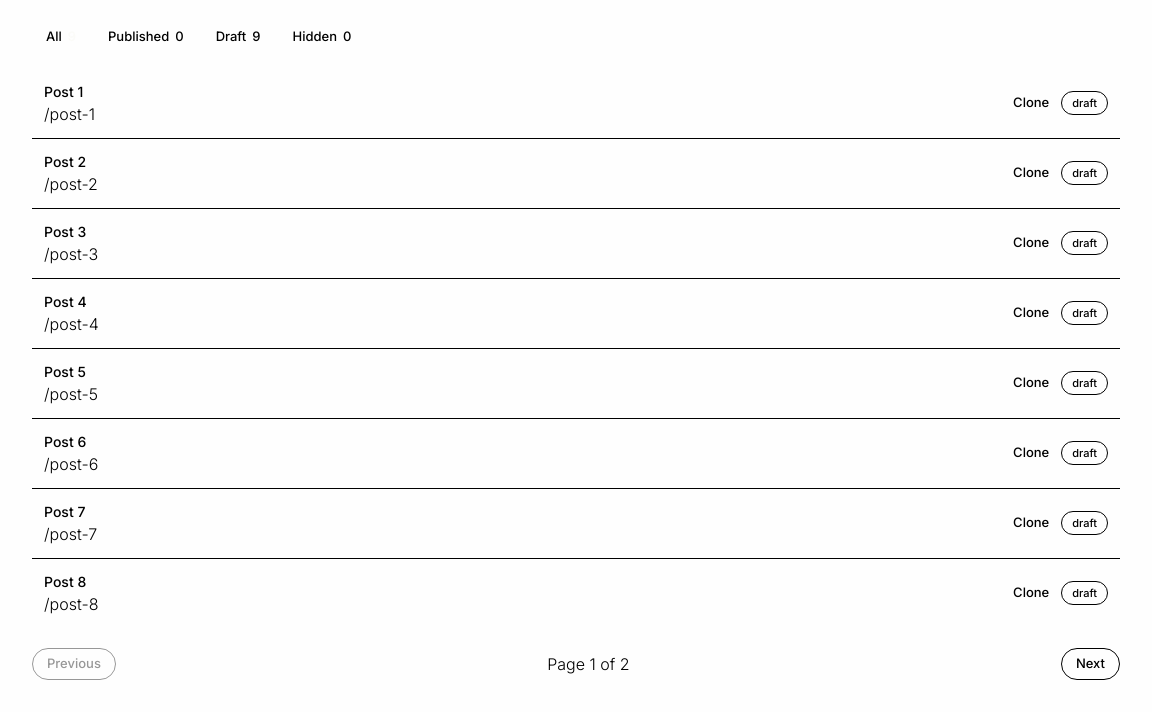
BlogManagement › pages through posts: Next fetches page 2, bounds disable the pills
(page scrolled)
Expected: the text "Post 1" is shown, [44,82,83,100]
Expected: the text "Post 8" is shown, [44,572,86,590]
Click the button "Next" at (1090, 664), box [1061,648,1120,680]
(page scrolled)
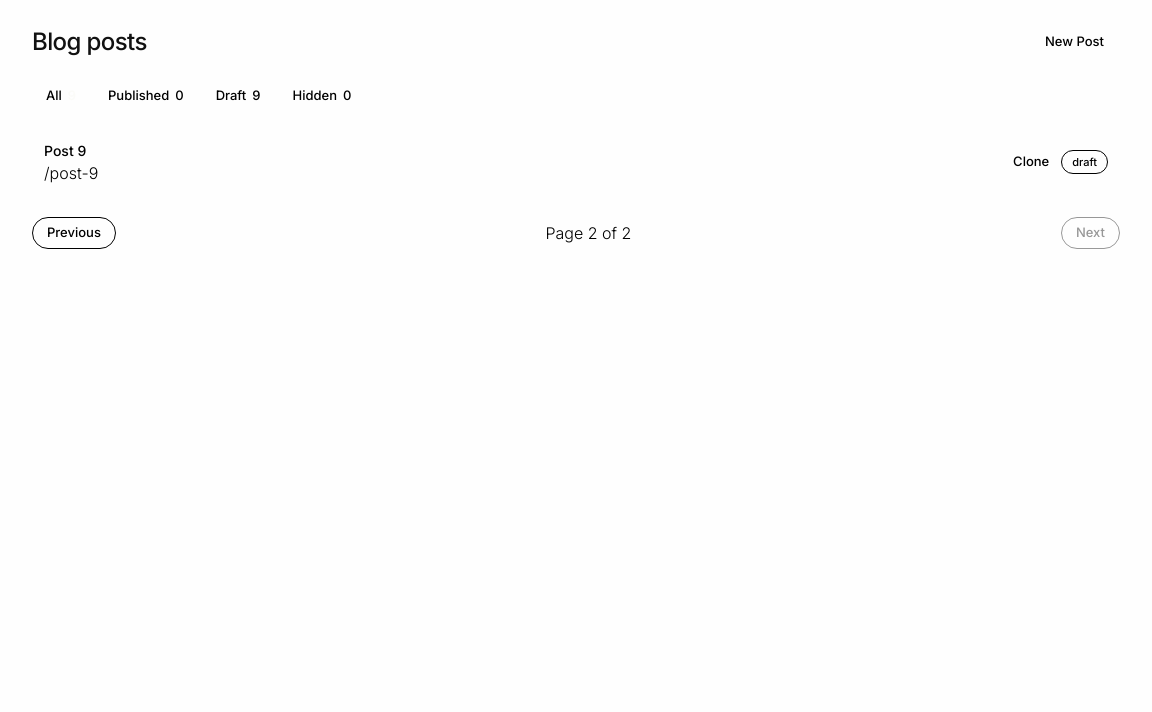
Expected: the text "Post 9" is shown, [44,142,86,158]
Expected: the button "Post 1" is gone
Expected: the text "Page 2 of 2" is shown, [546,216,631,248]
